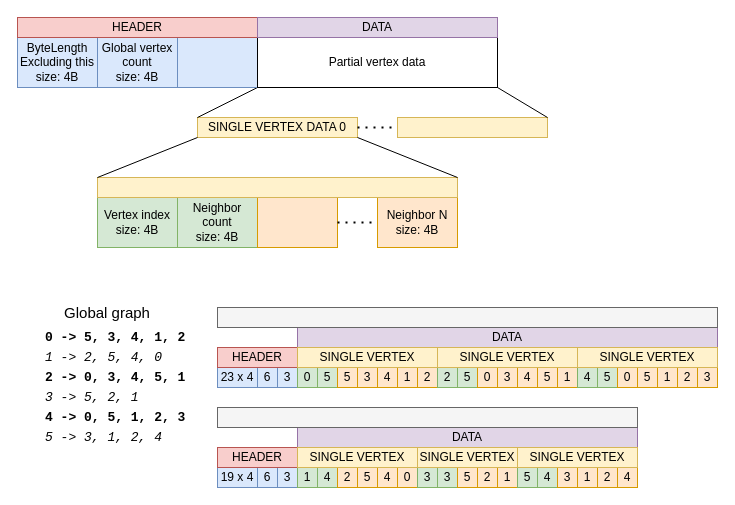
The diagram is 735 pixels wide and 505 high, and some of its shapes have lost their labels. The centre of each missing label's shape, as x and y in pixels:
Neighbor 0 size: 4B: pixel 297 222
Partial vertex count size: 4B: pixel 217 62
SINGLE VERTEX DATA: pixel 277 187
SINGLE VERTEX DATA N: pixel 472 127
Worker 0 partial graph data: pixel 467 317
Worker 1 partial graph data: pixel 427 417
